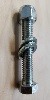FinishedAssembly: (14, 5, 43, 96)
